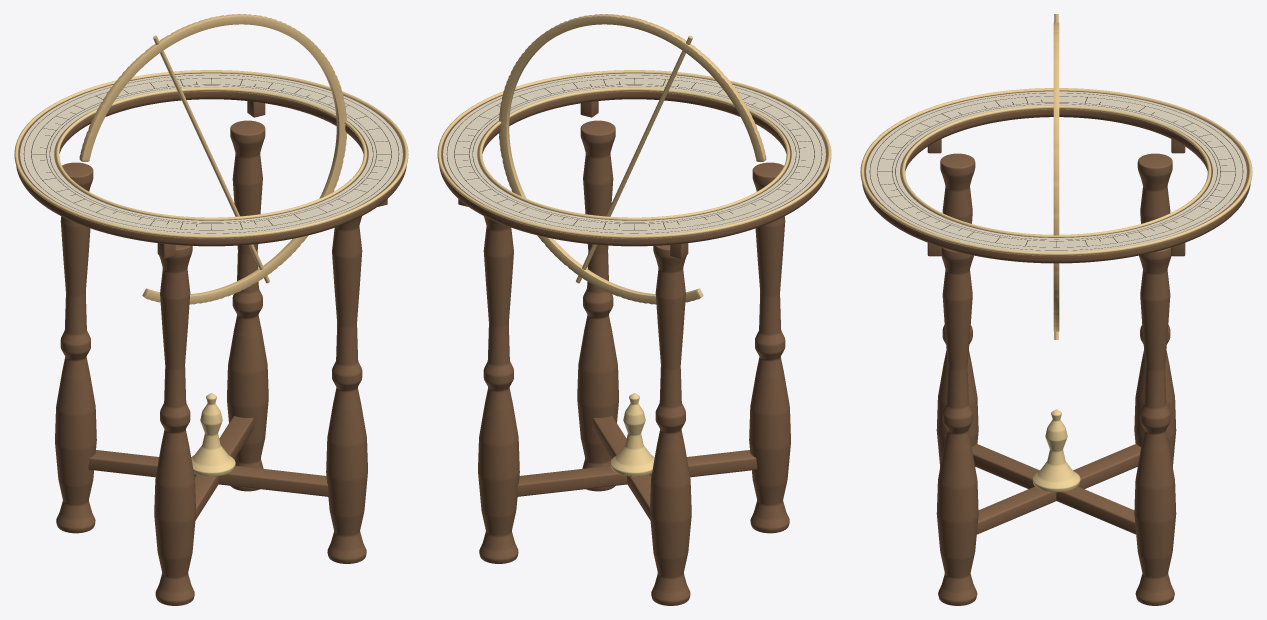
File: globestand.glb
The picture shows the model from 3 angles, left to right: view 1: azimuth 30°, elevation 25°; view 2: azimuth 150°, elevation 25°; view 3: azimuth 270°, elevation 25°; orthographic projection.
Visible parts, largest first — view 1: globestand; view 2: globestand; view 3: globestand.
Part boxes in pixels (left/top/right/bottom): globestand: left=14, top=14, right=408, bottom=605; globestand: left=437, top=14, right=831, bottom=605; globestand: left=860, top=14, right=1252, bottom=605.
Size of the model in its own units: 0.842 by 1.23 by 0.842.
